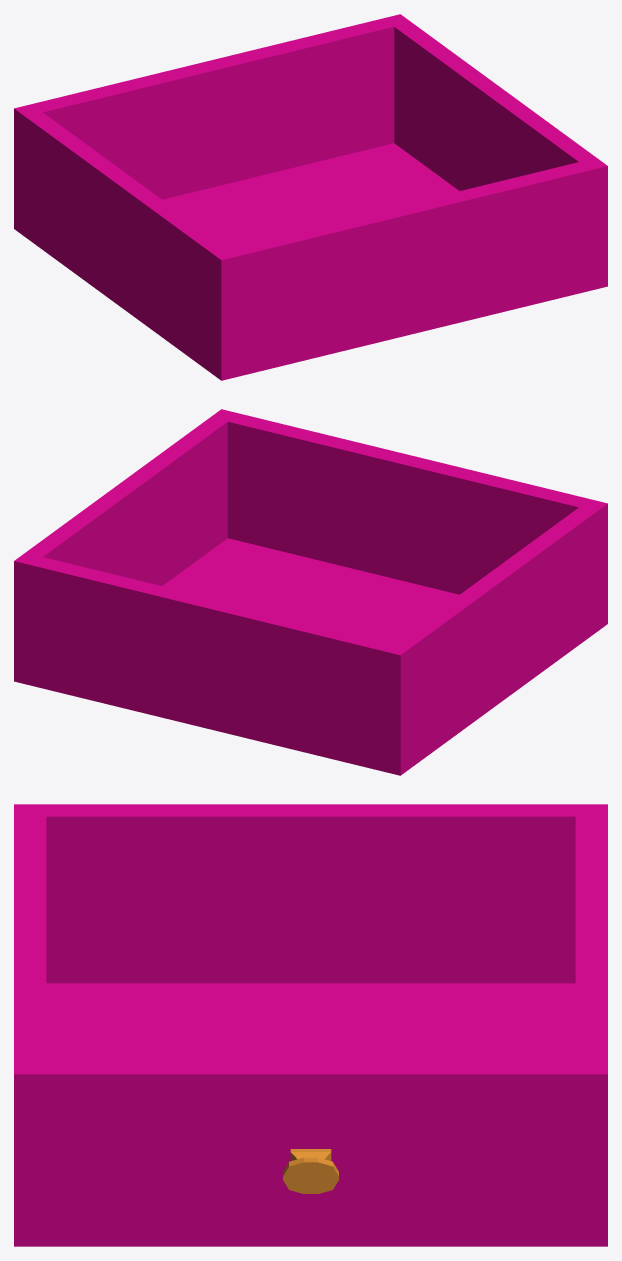
File: 1 Gaveteiro Portas menores.fbx
The picture shows the model from 3 angles, top to bottom: view 1: azimuth 30°, elevation 25°; view 2: azimuth 150°, elevation 25°; view 3: azimuth 270°, elevation 25°; orthographic projection. The views are drawn at different scales.
Visible parts, largest first — view 1: Cube.013; view 2: Cube.013; view 3: Cube.013.
Part boxes in pixels (bbox=[...]): Cube.013: bbox=[14, 14, 607, 380]; Cube.013: bbox=[14, 409, 607, 775]; Cube.013: bbox=[14, 804, 607, 1246].
Size of the model in its own units: 178 by 49.76 by 155.
